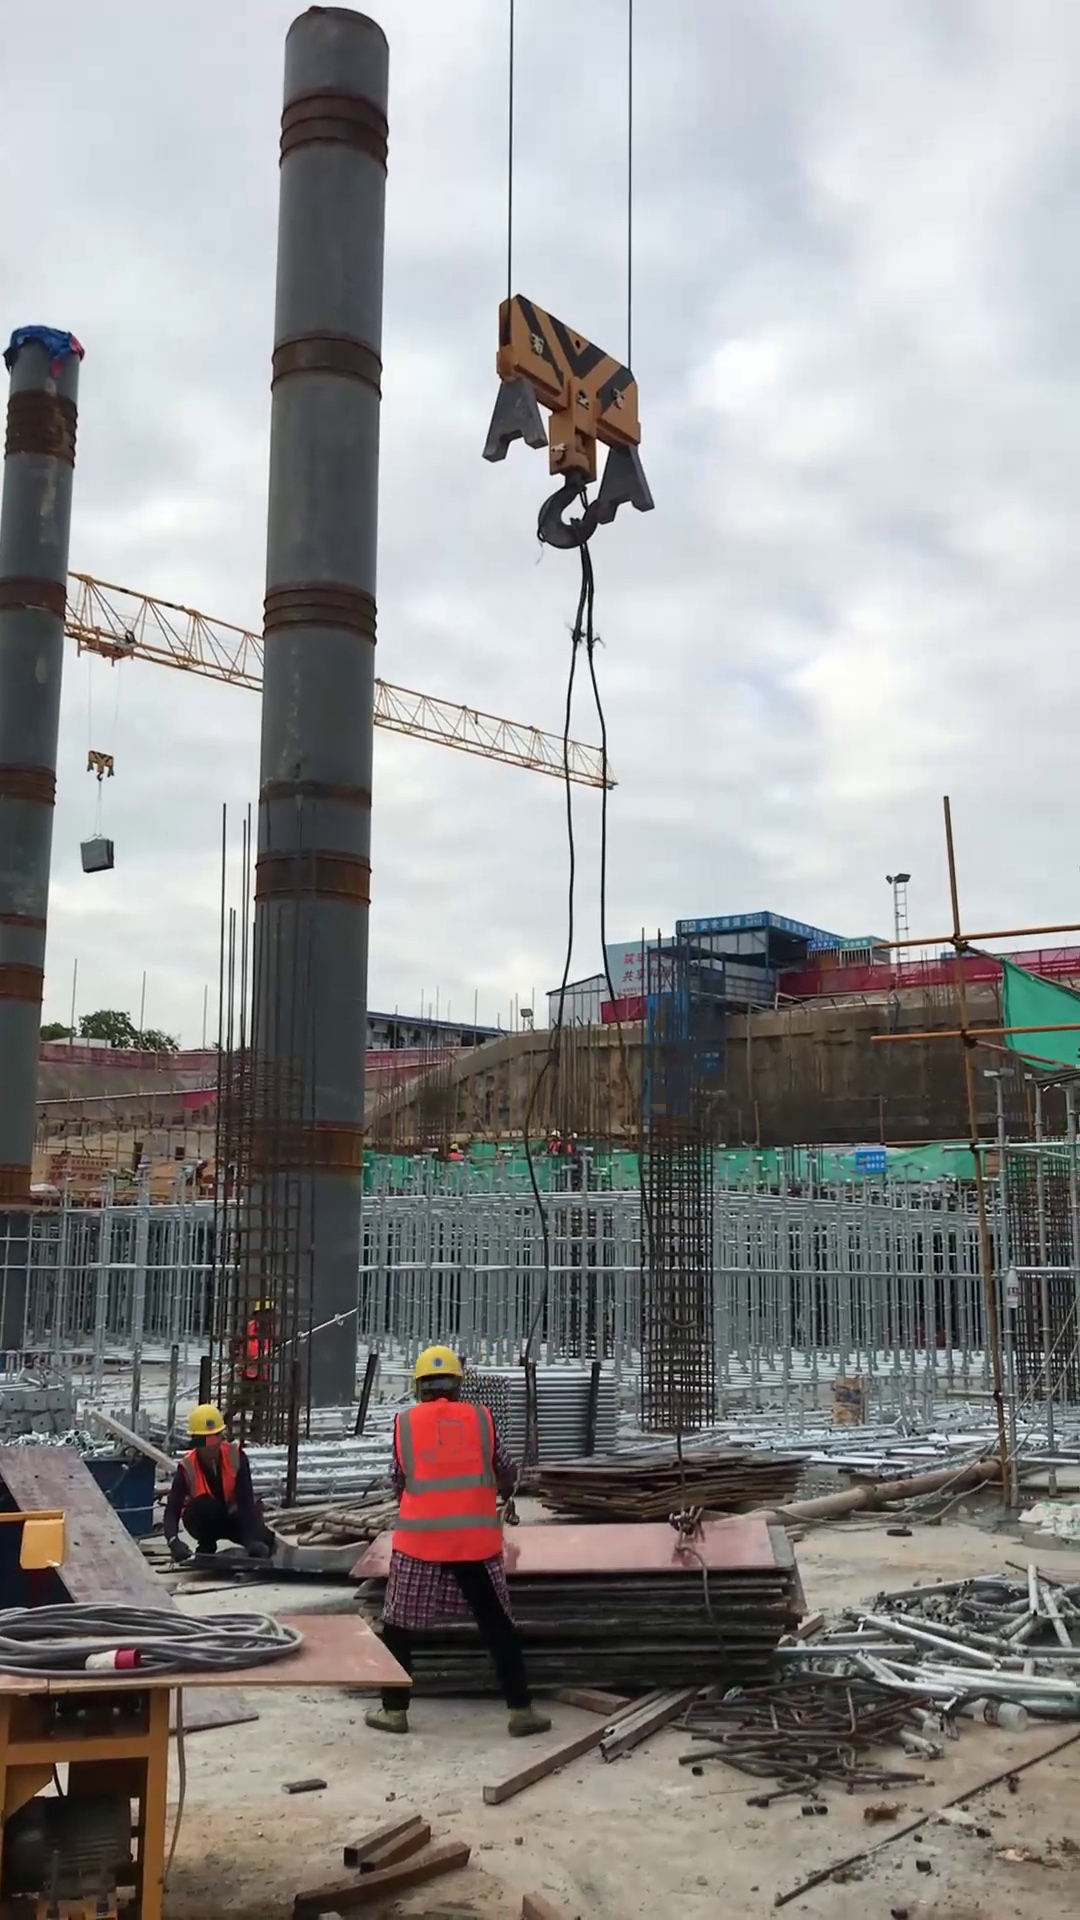board: (340, 1508, 818, 1708), (530, 1427, 818, 1532)
cutter: (1, 1591, 368, 1919)
fence: (821, 946, 1002, 998)
helmet: (404, 1340, 471, 1392), (182, 1397, 232, 1442)
hook: (478, 282, 661, 558), (83, 746, 116, 787)
person: (368, 1339, 565, 1751), (151, 1397, 283, 1579)
scaffold: (480, 1346, 633, 1465)
vest: (390, 1399, 507, 1568), (174, 1442, 249, 1508)
